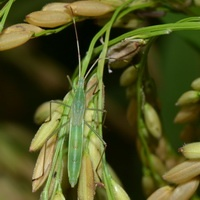insect: (30, 22, 111, 199)
